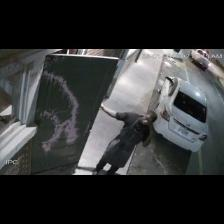person: (93, 104, 157, 174)
